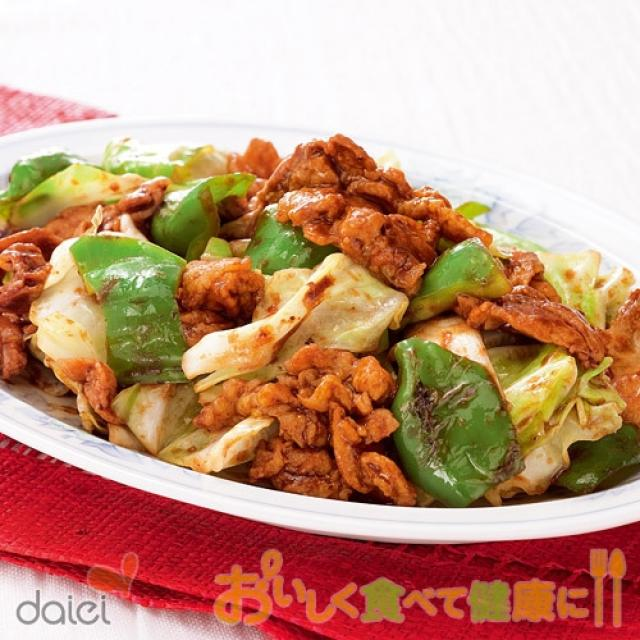三明治: (0, 85, 640, 635)
